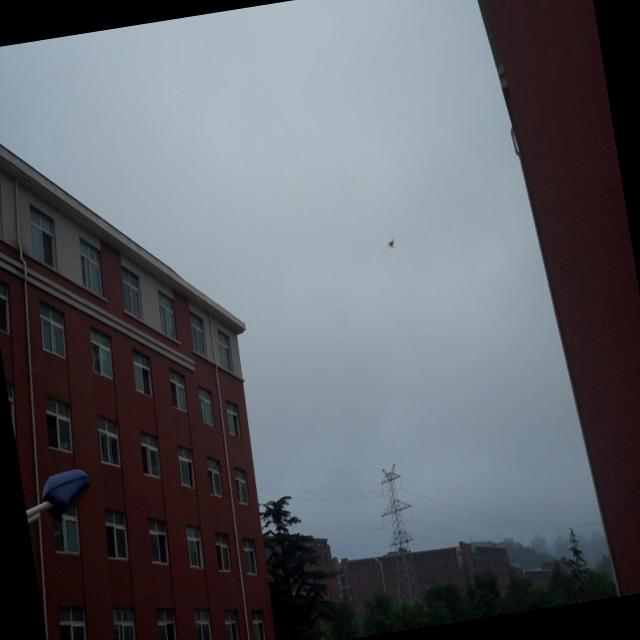drone: (384, 234, 398, 253)
